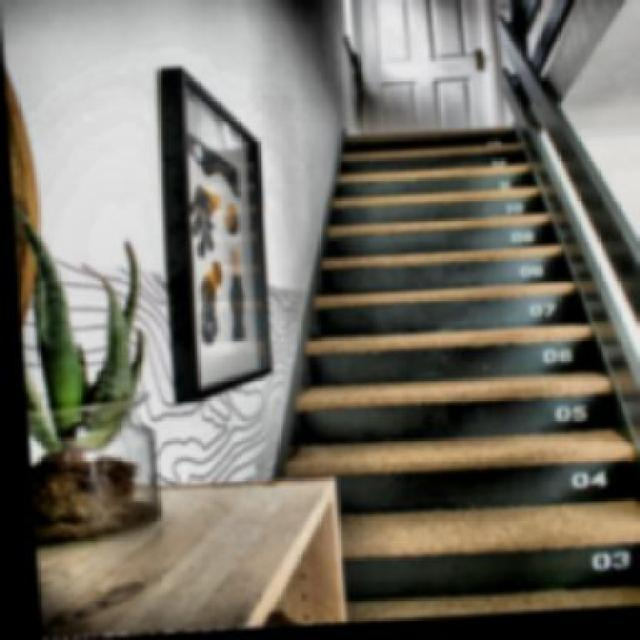stair: (284, 101, 638, 570)
